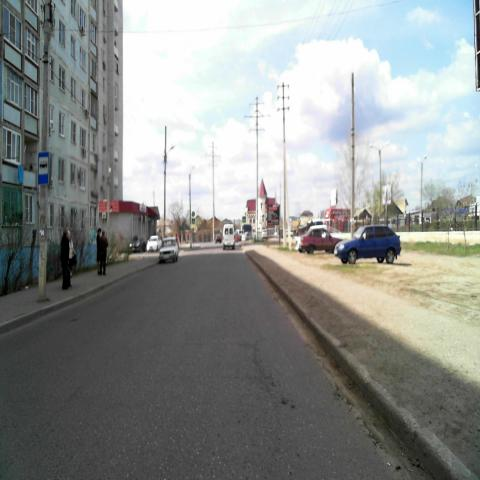5_16: (38, 152, 49, 185)
